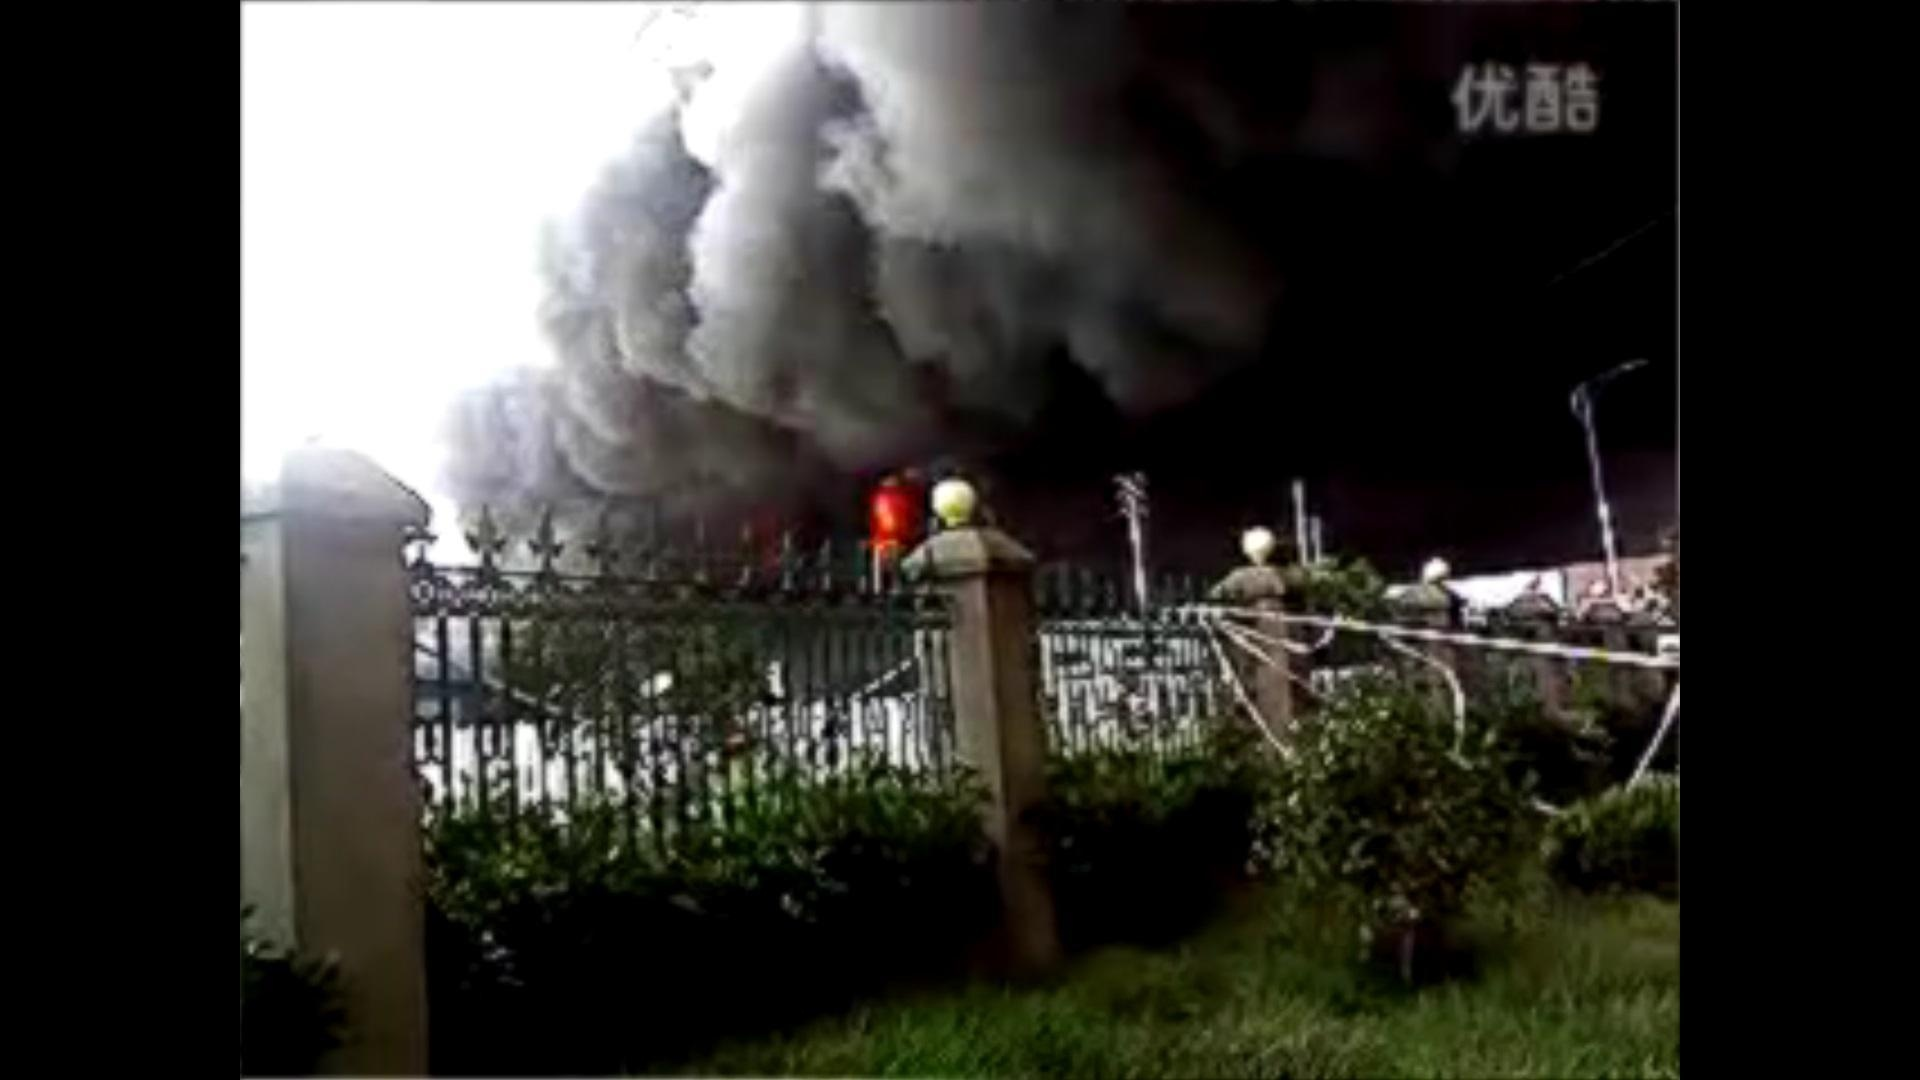fire: (866, 484, 916, 550)
